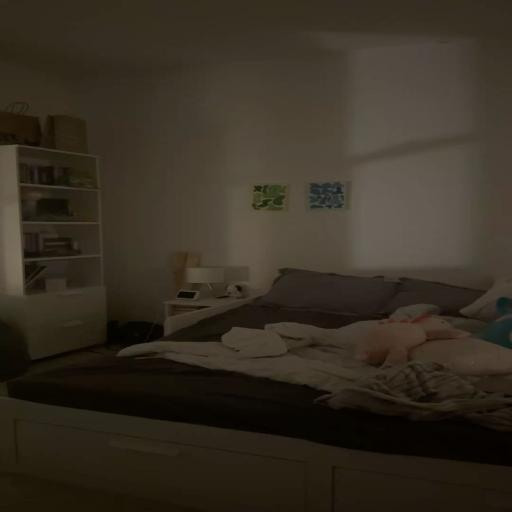person: (0, 265, 512, 512)
